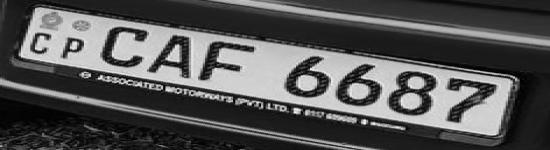6: (336, 62, 385, 108), (284, 54, 333, 98)
7: (442, 77, 500, 125)
8: (384, 69, 440, 116)
A: (147, 33, 197, 79)
C: (97, 24, 148, 67), (25, 31, 55, 56)
F: (198, 41, 264, 81)
P: (58, 34, 86, 60)
